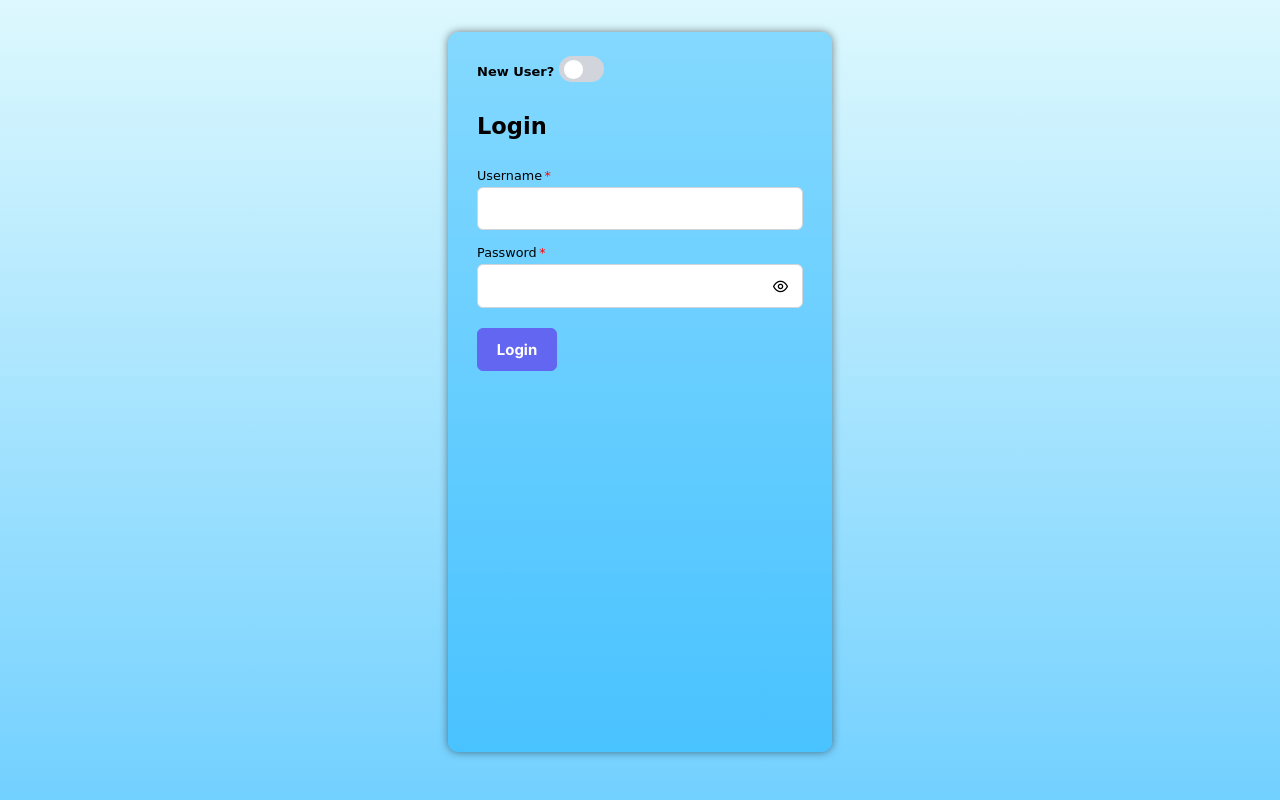
Test: StartPage component › renders RegistrationForm when 'New User' is checked
What coordinates should you click on to do the following:
click the checkbox with test id "newUserToggle"
I would click on:
 (582, 69)
Its box is 559,56 -> 604,82.
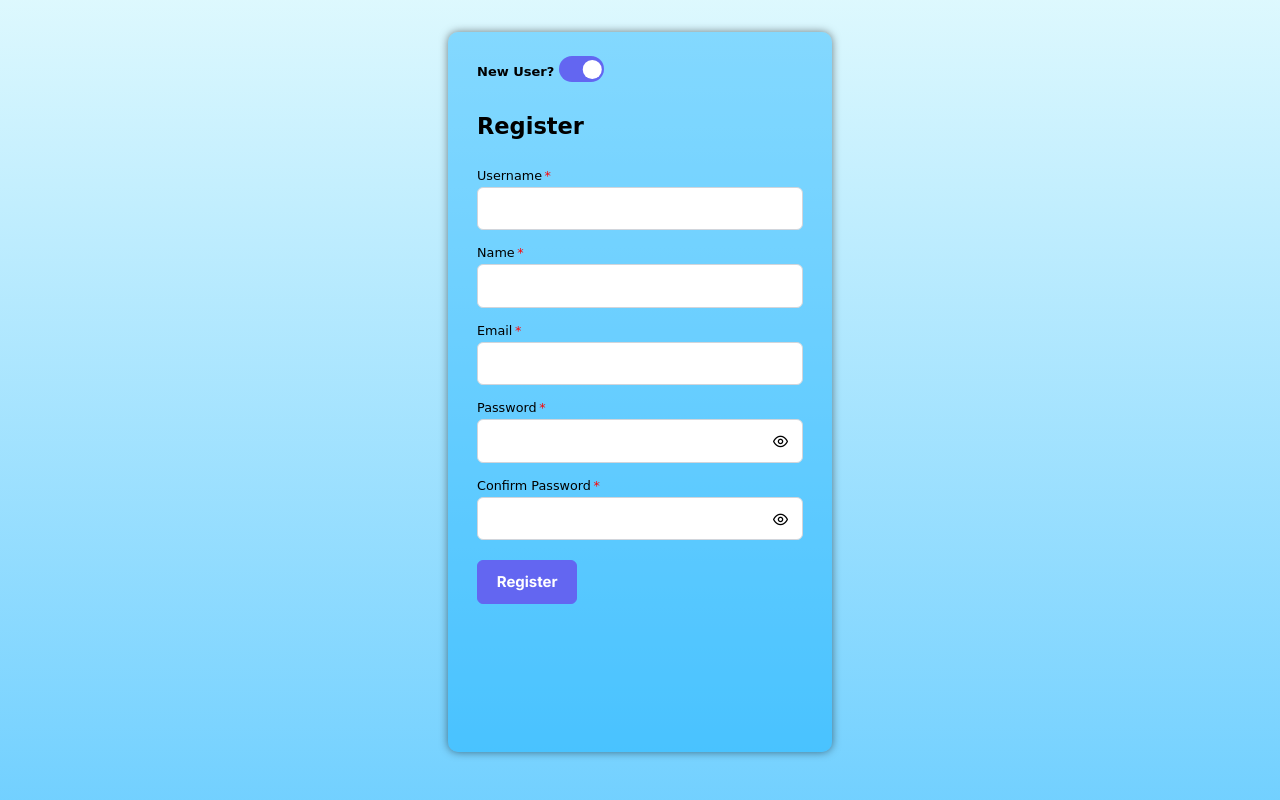
Expected: the form with test id "registrationForm" is shown, 472,108 -> 808,604
